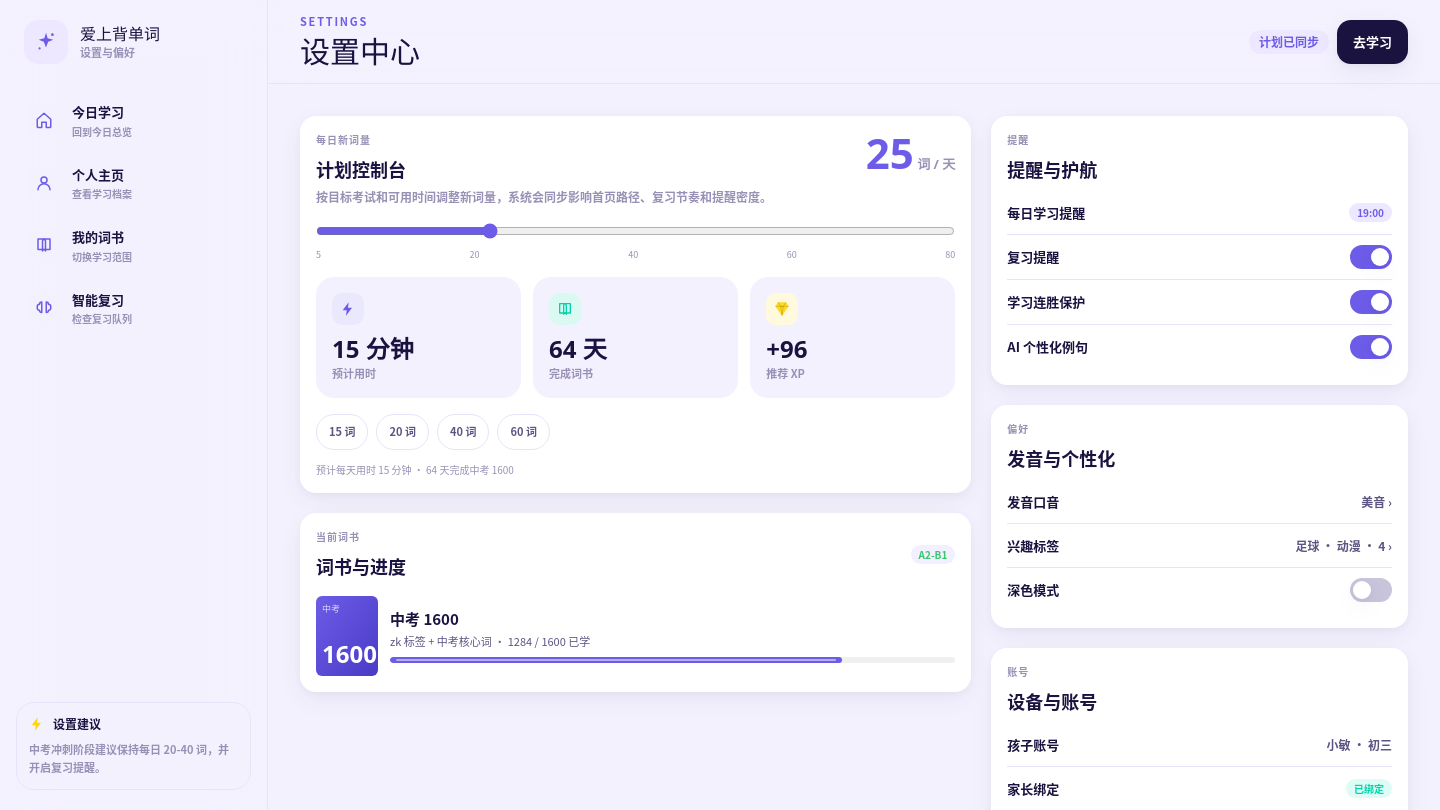
Test: SettingsScreen › renders persisted learning plan and saves daily word changes
Expected: the heading "设置中心" is shown, 300,33 -> 420,70
Expected: the heading "计划控制台" is shown, 316,156 -> 406,182
Set the slider named "每日新词量" to "40" at [615, 230], box 316,222 -> 955,238
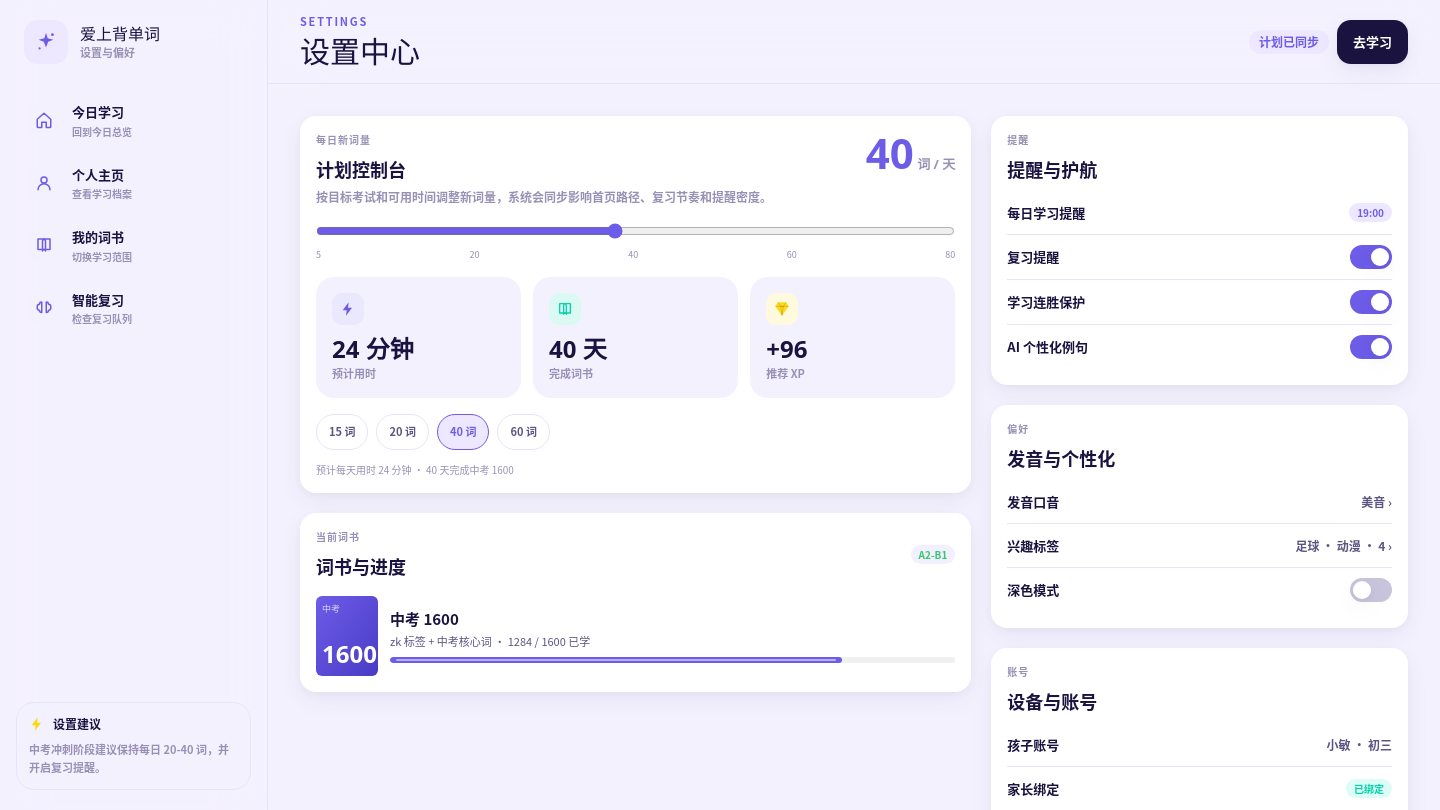
Expected: the text "40" is shown, 866,124 -> 914,181
Expected: the text "预计每天用时 24 分钟 · 40 天完成中考 1600" is shown, 316,462 -> 514,476
